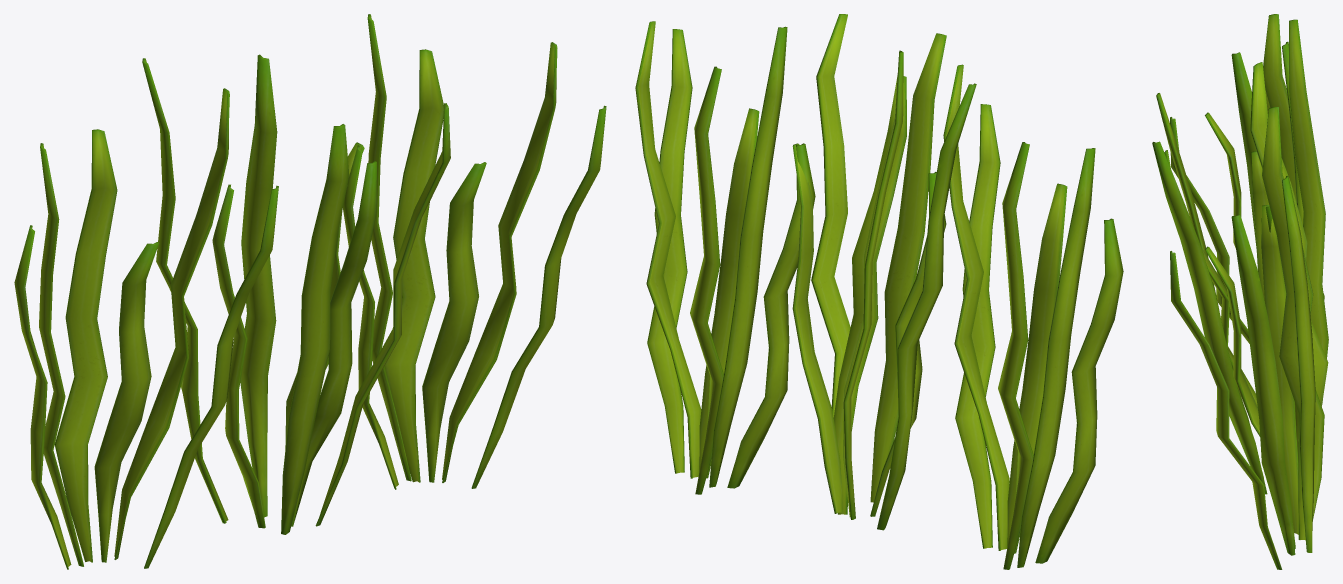
Rendered from PlantSeaweed01_6.FBX.
The picture shows the model from 3 angles, left to right: view 1: azimuth 30°, elevation 25°; view 2: azimuth 150°, elevation 25°; view 3: azimuth 270°, elevation 25°; orthographic projection. The views are drawn at different scales.
Visible parts, largest first — view 1: PlantSeaweed01_6; view 2: PlantSeaweed01_6; view 3: PlantSeaweed01_6.
Part boxes in pixels (<box>): PlantSeaweed01_6: <box>14,14,606,569</box>; PlantSeaweed01_6: <box>635,14,1123,569</box>; PlantSeaweed01_6: <box>1152,14,1328,569</box>.
Size of what is drawn, in the model's own units: 1.07 by 0.9596 by 0.367.
